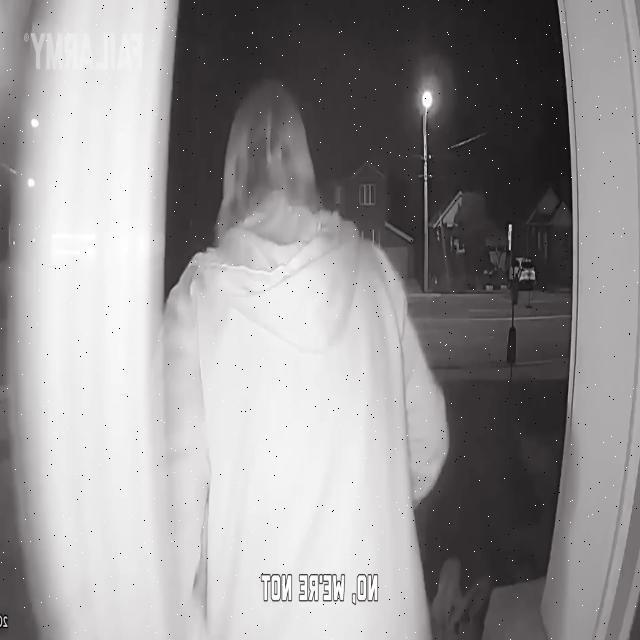person: (149, 87, 449, 640)
